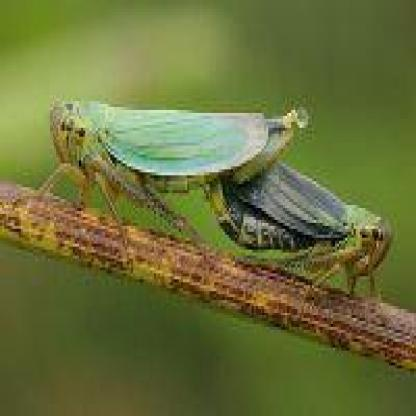Green-Leafhopper: (26, 96, 312, 263), (195, 109, 392, 305)
